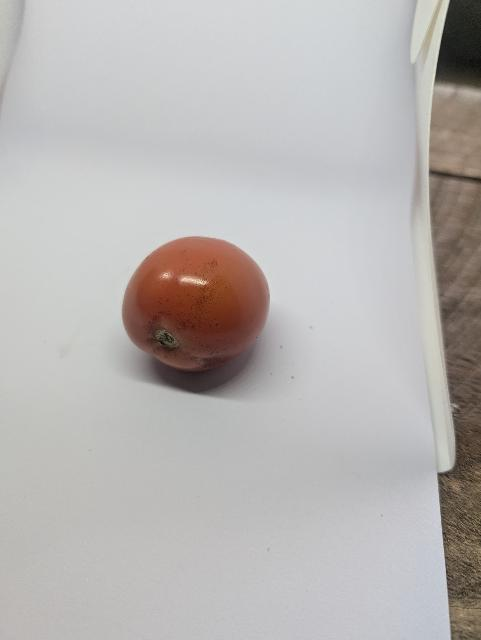red: (117, 230, 272, 380)
